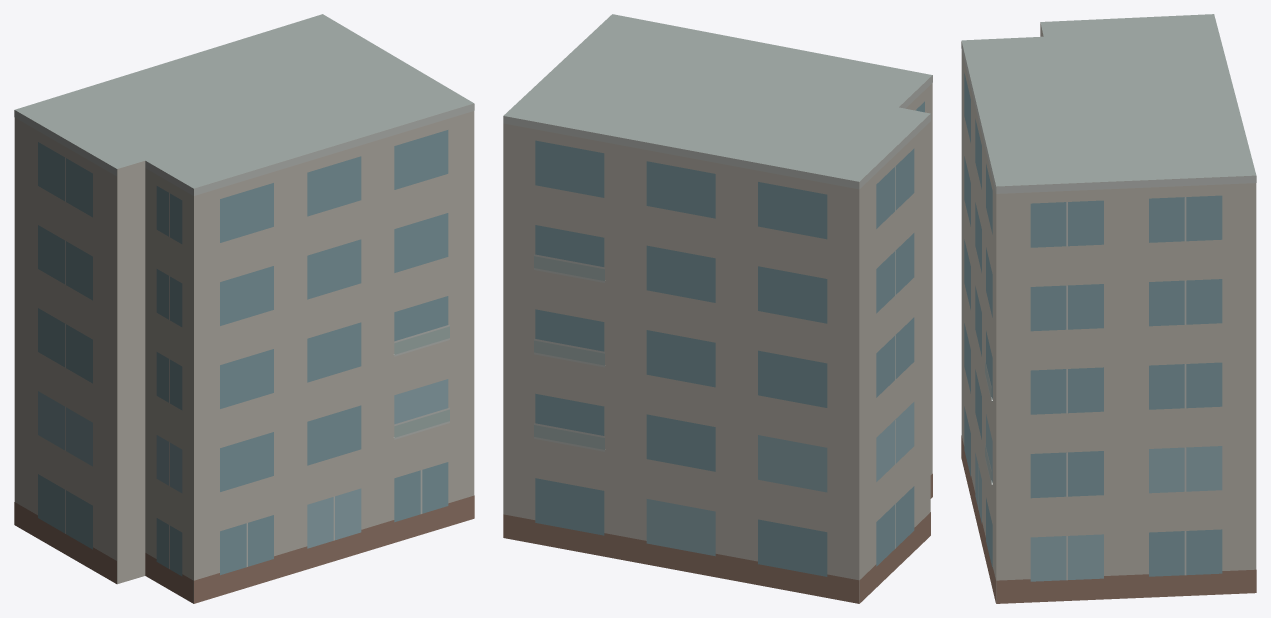
Rendered from survey-upis-32938304.glb.
3 views of the same model, side by side, from view 1: azimuth 30°, elevation 25°; view 2: azimuth 150°, elevation 25°; view 3: azimuth 270°, elevation 25° (orthographic).
Parts seen in each view (by area): view 1: survey-upis-32938304.tmp; view 2: survey-upis-32938304.tmp; view 3: survey-upis-32938304.tmp.
Part boxes in pixels (x1,y1,x2,y2): survey-upis-32938304.tmp: [14, 14, 474, 603]; survey-upis-32938304.tmp: [503, 14, 932, 603]; survey-upis-32938304.tmp: [961, 14, 1256, 603].
Size of the model in its own units: 12.06 by 13.6 by 8.72.
